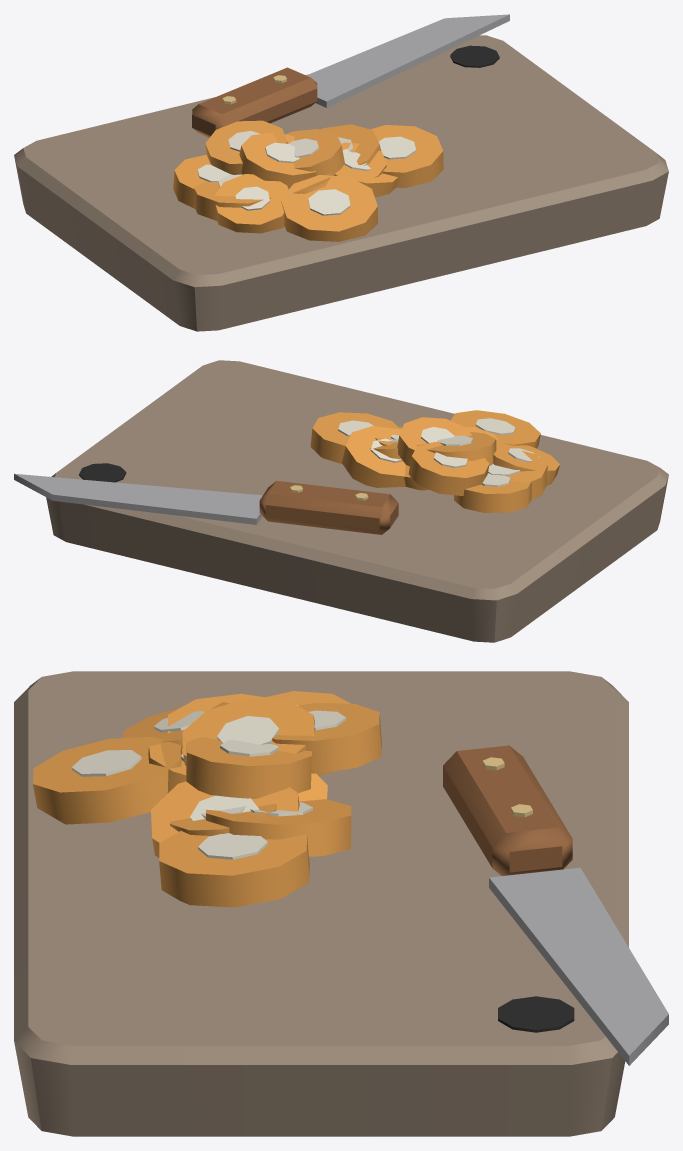
File: cook_chopped_carrot.glb
3 renders of one model, top to bottom at view 1: azimuth 30°, elevation 25°; view 2: azimuth 150°, elevation 25°; view 3: azimuth 270°, elevation 25°, orthographic. The views are drawn at different scales.
Visible parts, largest first — view 1: body; view 2: body; view 3: body.
Part boxes in pixels (x1,y1,x2,y2): body: [14, 14, 668, 331]; body: [14, 360, 668, 642]; body: [14, 671, 668, 1136].
Size of the model in its own units: 0.0663 by 0.0125 by 0.0458.
